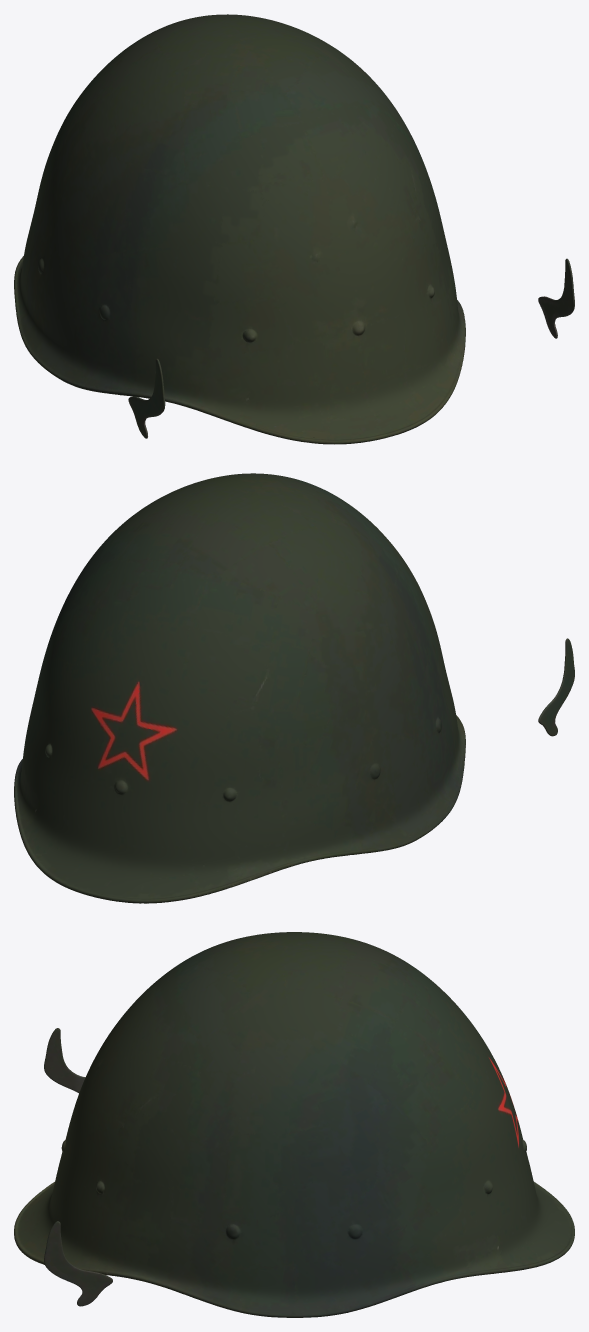
File: kaska_3d.glb
3 renders of one model, top to bottom at view 1: azimuth 30°, elevation 25°; view 2: azimuth 150°, elevation 25°; view 3: azimuth 270°, elevation 25°, orthographic. The views are drawn at different scales.
Visible parts, largest first — view 1: Mesh_0; view 2: Mesh_0; view 3: Mesh_0.
Part boxes in pixels (<box>): Mesh_0: <box>14,14,574,444</box>; Mesh_0: <box>14,473,574,903</box>; Mesh_0: <box>14,932,574,1317</box>.
Bounding box in the file's own units: 1.55 × 1.07 × 1.9.
Materials: 1 (1 with a texture image).
